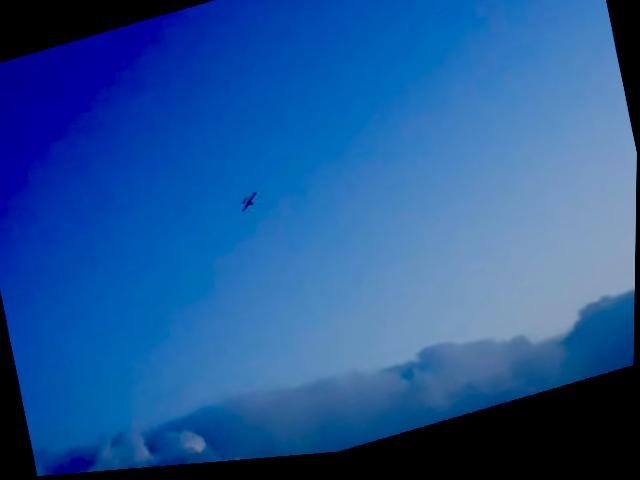uav: (237, 191, 263, 221)
